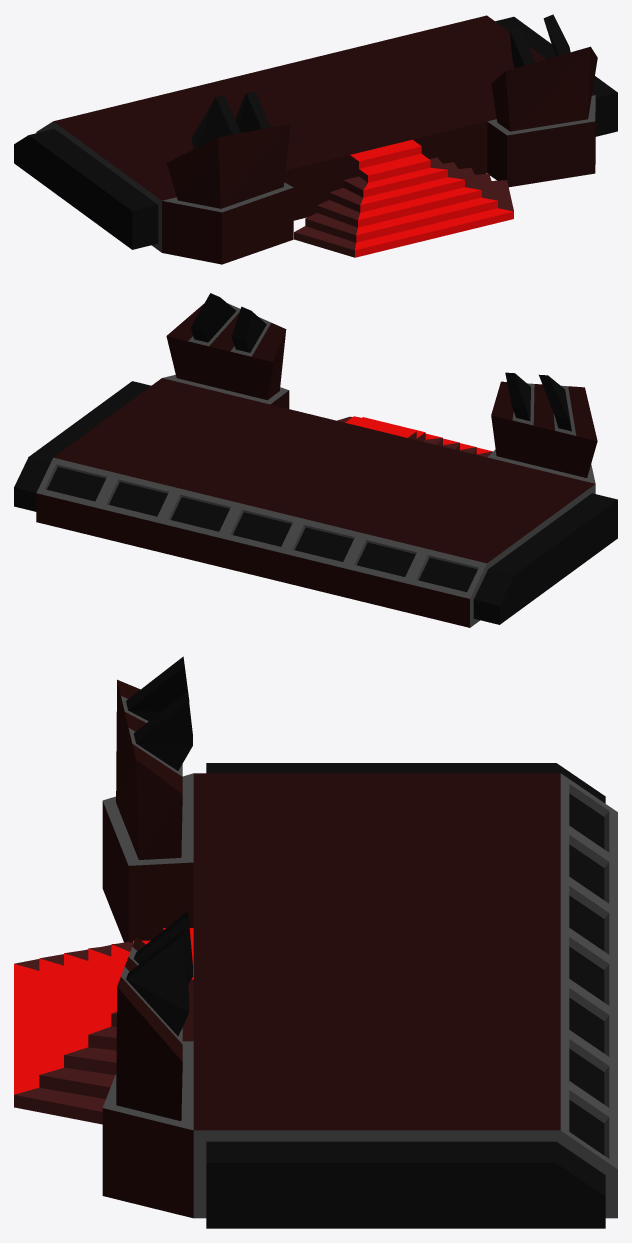
The model's file is stageTroidage.FBX.
3 views of the same model, one above another, from view 1: azimuth 30°, elevation 25°; view 2: azimuth 150°, elevation 25°; view 3: azimuth 270°, elevation 25° (orthographic). The views are drawn at different scales.
Parts seen in each view (by area): view 1: Box001; view 2: Box001; view 3: Box001.
Part boxes in pixels (x1,y1,x2,y2): Box001: (14,14,617,264); Box001: (14,293,617,627); Box001: (14,656,617,1228).
Bounding box in the file's own units: 156 × 44.73 × 99.31.
